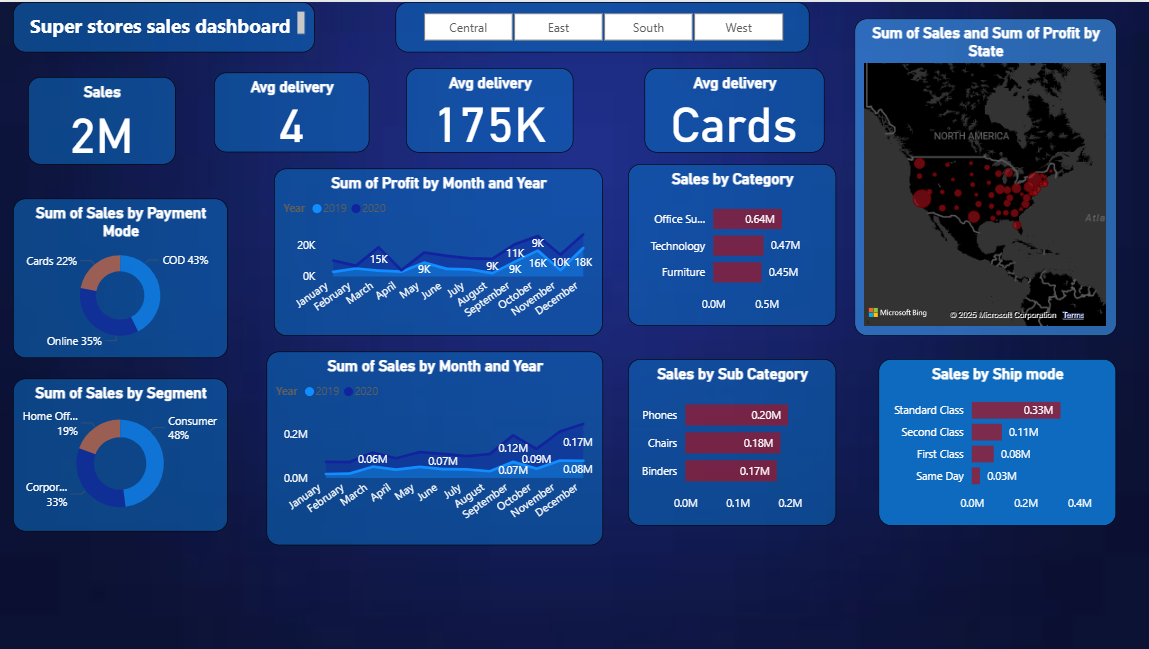

Layout of this report page (visuals, bound fields, positions):
{"tool":"powerbi","page":{"name":"Page 1","canvas":[1280,720],"ordinal":0},"visuals":[{"type":"clusteredBarChart","title":" Sales by Category","fields":{"Category":["SuperStore_Sales_Dataset.Category"],"Y":["Sum(SuperStore_Sales_Dataset.Sales)"]},"box":[700,180,231.2,180],"z":0},{"type":"clusteredBarChart","title":" Sales by Sub Category","fields":{"Category":["SuperStore_Sales_Dataset.Sub-Category"],"Y":["Sum(SuperStore_Sales_Dataset.Sales)"]},"box":[700,396.2,231.2,185],"z":1000},{"type":"clusteredBarChart","title":" Sales by Ship mode","fields":{"Category":["SuperStore_Sales_Dataset.Ship Mode"],"Y":["Sum(SuperStore_Sales_Dataset.Sales)"]},"box":[978.8,396.2,263.8,185],"z":2000},{"type":"stackedAreaChart","fields":{"Y":["Sum(SuperStore_Sales_Dataset.Sales)"],"Category":["SuperStore_Sales_Dataset.Order Date.Variation.Date Hierarchy.Month","SuperStore_Sales_Dataset.Order Date.Variation.Date Hierarchy.Day"],"Series":["SuperStore_Sales_Dataset.Order Date.Variation.Date Hierarchy.Year"]},"box":[297.5,388.8,373.8,215],"z":3000},{"type":"stackedAreaChart","fields":{"Category":["SuperStore_Sales_Dataset.Order Date.Variation.Date Hierarchy.Month","SuperStore_Sales_Dataset.Order Date.Variation.Date Hierarchy.Day"],"Series":["SuperStore_Sales_Dataset.Order Date.Variation.Date Hierarchy.Year"],"Y":["Sum(SuperStore_Sales_Dataset.Profit)"]},"box":[306.2,185,365,186.2],"z":4000},{"type":"map","fields":{"Category":["SuperStore_Sales_Dataset.State"],"Size":["Sum(SuperStore_Sales_Dataset.Sales)"]},"box":[951.2,18.8,291.2,352.5],"z":5000},{"type":"donutChart","fields":{"Category":["SuperStore_Sales_Dataset.Segment"],"Y":["Sum(SuperStore_Sales_Dataset.Sales)"]},"box":[16.2,417.5,238.8,170],"z":6000},{"type":"donutChart","fields":{"Category":["SuperStore_Sales_Dataset.Payment Mode"],"Y":["Sum(SuperStore_Sales_Dataset.Sales)"]},"box":[16.2,218.8,238.8,177.5],"z":7000},{"type":"slicer","fields":{"Values":["SuperStore_Sales_Dataset.Region"]},"box":[441.2,0,460,56.2],"z":8000},{"type":"textbox","box":[16.2,0,335,56.2],"z":9000},{"type":"card","title":"Sales","fields":{"Values":["Sum(SuperStore_Sales_Dataset.Sales)"]},"box":[33.8,82.5,163.8,97.5],"z":10000},{"type":"card","title":"Avg delivery","fields":{"Values":["Avg(SuperStore_Sales_Dataset.AvgDelivery)"]},"box":[240,78.8,172.5,88.8],"z":11000},{"type":"card","title":"Avg delivery","fields":{"Values":["Sum(SuperStore_Sales_Dataset.Profit)"]},"box":[453.8,73.8,186.2,93.8],"z":12000},{"type":"card","title":"Avg delivery","fields":{"Values":["Min(SuperStore_Sales_Dataset.Payment Mode)"]},"box":[717.5,73.8,200,93.8],"z":13000}]}

Visuals, with their boxes in screenshot pixels (x1, y1, x2, y2), scaled from the page's 1280x720 canvas onto the 1149x649 screenshot:
" Sales by Category" clusteredBarChart: select_region(628, 162, 836, 324)
" Sales by Sub Category" clusteredBarChart: select_region(628, 357, 836, 524)
" Sales by Ship mode" clusteredBarChart: select_region(879, 357, 1115, 524)
stackedAreaChart - Sum(SuperStore_Sales_Dataset.Sales) x SuperStore_Sales_Dataset.Order Date.Variation.Date Hierarchy.Month: select_region(267, 350, 603, 544)
stackedAreaChart - SuperStore_Sales_Dataset.Order Date.Variation.Date Hierarchy.Month x SuperStore_Sales_Dataset.Order Date.Variation.Date Hierarchy.Day: select_region(275, 167, 603, 335)
map - SuperStore_Sales_Dataset.State x Sum(SuperStore_Sales_Dataset.Sales): select_region(854, 17, 1115, 335)
donutChart - SuperStore_Sales_Dataset.Segment x Sum(SuperStore_Sales_Dataset.Sales): select_region(15, 376, 229, 530)
donutChart - SuperStore_Sales_Dataset.Payment Mode x Sum(SuperStore_Sales_Dataset.Sales): select_region(15, 197, 229, 357)
slicer - SuperStore_Sales_Dataset.Region: select_region(396, 0, 809, 51)
textbox: select_region(15, 0, 315, 51)
"Sales" card: select_region(30, 74, 177, 162)
"Avg delivery" card: select_region(215, 71, 370, 151)
"Avg delivery" card: select_region(407, 67, 574, 151)
"Avg delivery" card: select_region(644, 67, 824, 151)
